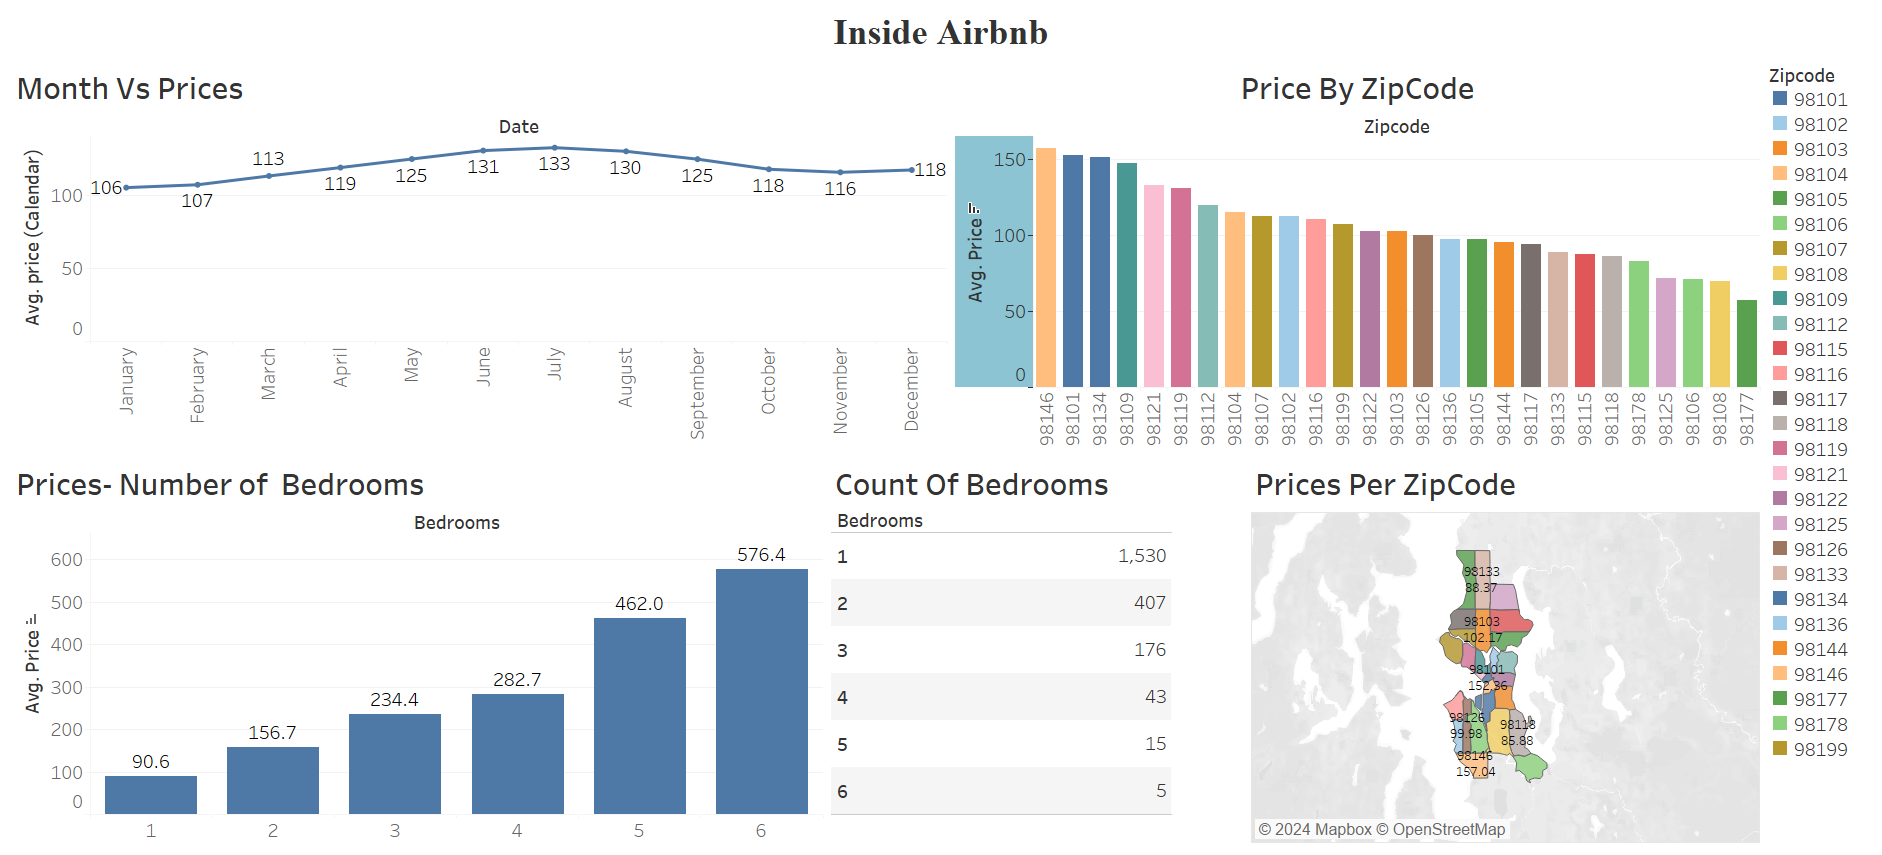

The page's visual inventory and layout, read from the dashboard file:
{"tool":"tableau","page":{"name":"Dashboard 1","canvas":[1000,1000],"units":"permille","ordinal":0},"visuals":[{"type":"title","box":[4.2,9.4,991.5,56.1]},{"type":"worksheet","title":"Sheet 3","mark":"Automatic","rows":["price (Calendar)"],"cols":["date"],"box":[4.2,65.5,501.2,462.6]},{"type":"worksheet","title":"Sheet 1","mark":"Automatic","rows":["price"],"cols":["zipcode"],"box":[505.5,65.5,431.8,462.6]},{"type":"legend","title":"Sheet 1","param":"[federated.0f69e3z1oecqa61byho970j3e0mt].[none:zipcode:ok]","box":[937.3,65.5,58.5,829.2]},{"type":"worksheet","title":"Sheet 4","mark":"Automatic","rows":["price"],"cols":["bedrooms"],"box":[4.2,528.1,435.1,462.6]},{"type":"worksheet","title":"Sheet 5","mark":"Automatic","rows":["bedrooms"],"box":[439.4,528.1,223.3,462.6]},{"type":"worksheet","title":"Sheet 2","mark":"Multipolygon","box":[662.7,528.1,274.6,462.6]}]}

Visuals, with their boxes on the dashboard's canvas, which has no fixed pixel size, in thousandths of its width and height (x1, y1, x2, y2). These are canvas units, not pixel positions in the 1882x855 screenshot, which may show the page scaled, cropped or inside an application window:
title: x1=4 y1=9 x2=996 y2=66
"Sheet 3" worksheet: x1=4 y1=66 x2=505 y2=528
"Sheet 1" worksheet: x1=506 y1=66 x2=937 y2=528
"Sheet 1" legend: x1=937 y1=66 x2=996 y2=895
"Sheet 4" worksheet: x1=4 y1=528 x2=439 y2=991
"Sheet 5" worksheet: x1=439 y1=528 x2=663 y2=991
"Sheet 2" worksheet (Multipolygon marks): x1=663 y1=528 x2=937 y2=991
